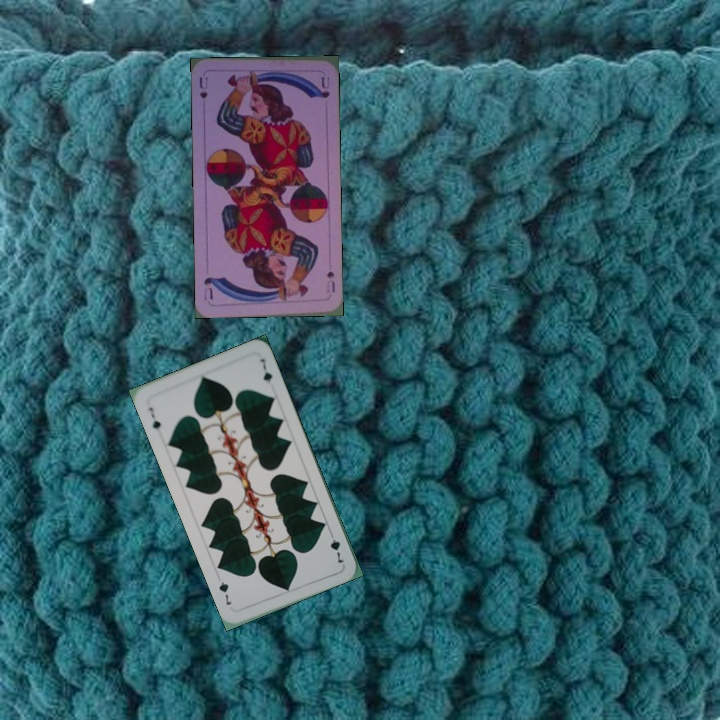G7: (325, 527, 346, 566), (144, 403, 163, 432)
SU: (195, 73, 210, 101), (322, 267, 337, 295)
